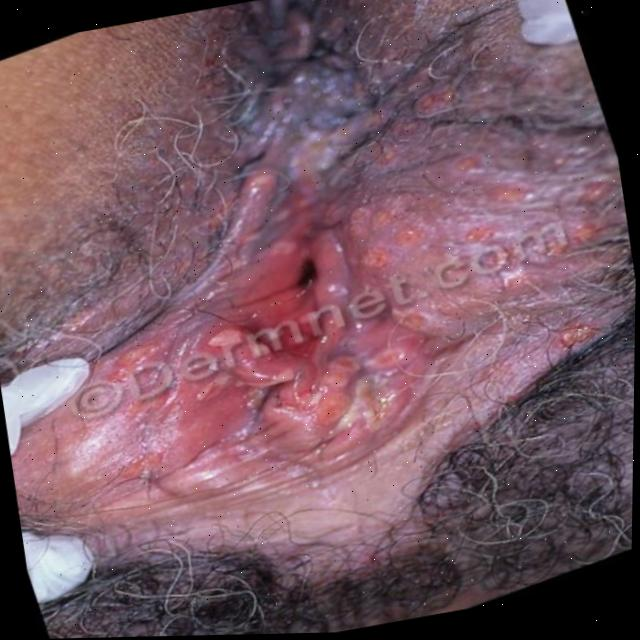Shingles: (326, 125, 524, 266), (118, 318, 267, 401)
